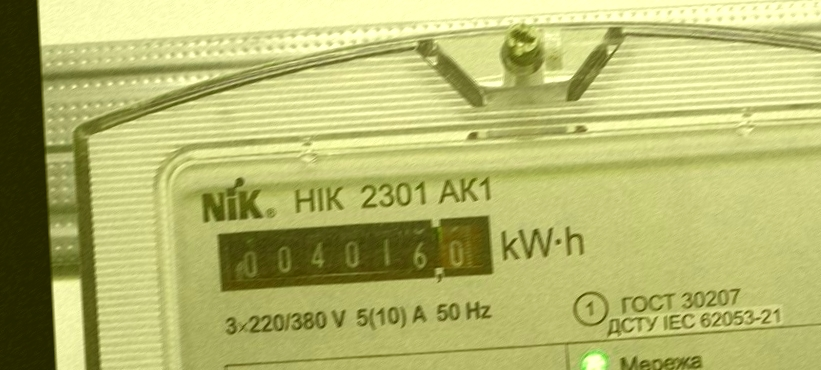0: (342, 233, 365, 269), (240, 244, 263, 278), (275, 239, 296, 274), (446, 233, 467, 266)
1: (380, 231, 396, 266)
4: (309, 234, 328, 269)
6: (410, 234, 430, 267)
screen: (211, 206, 503, 297)
